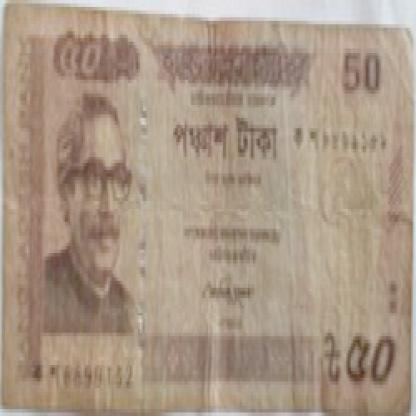Fifty taka: (46, 28, 112, 86), (344, 326, 396, 392)
